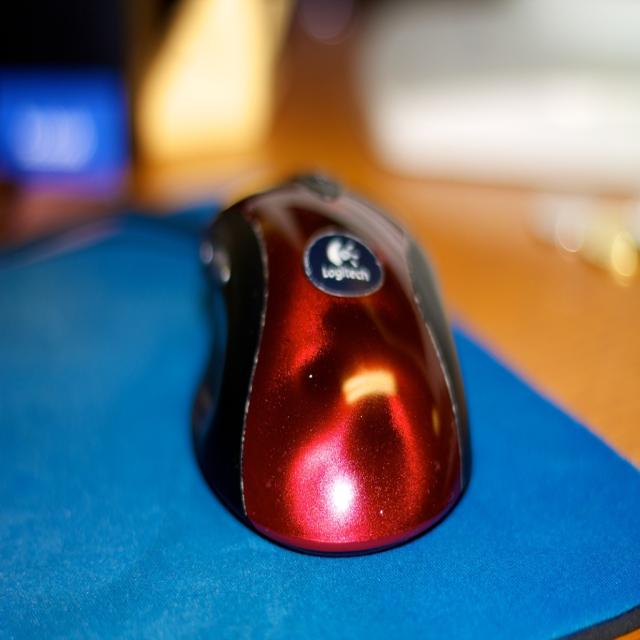Computer mouse: (191, 170, 474, 555)
